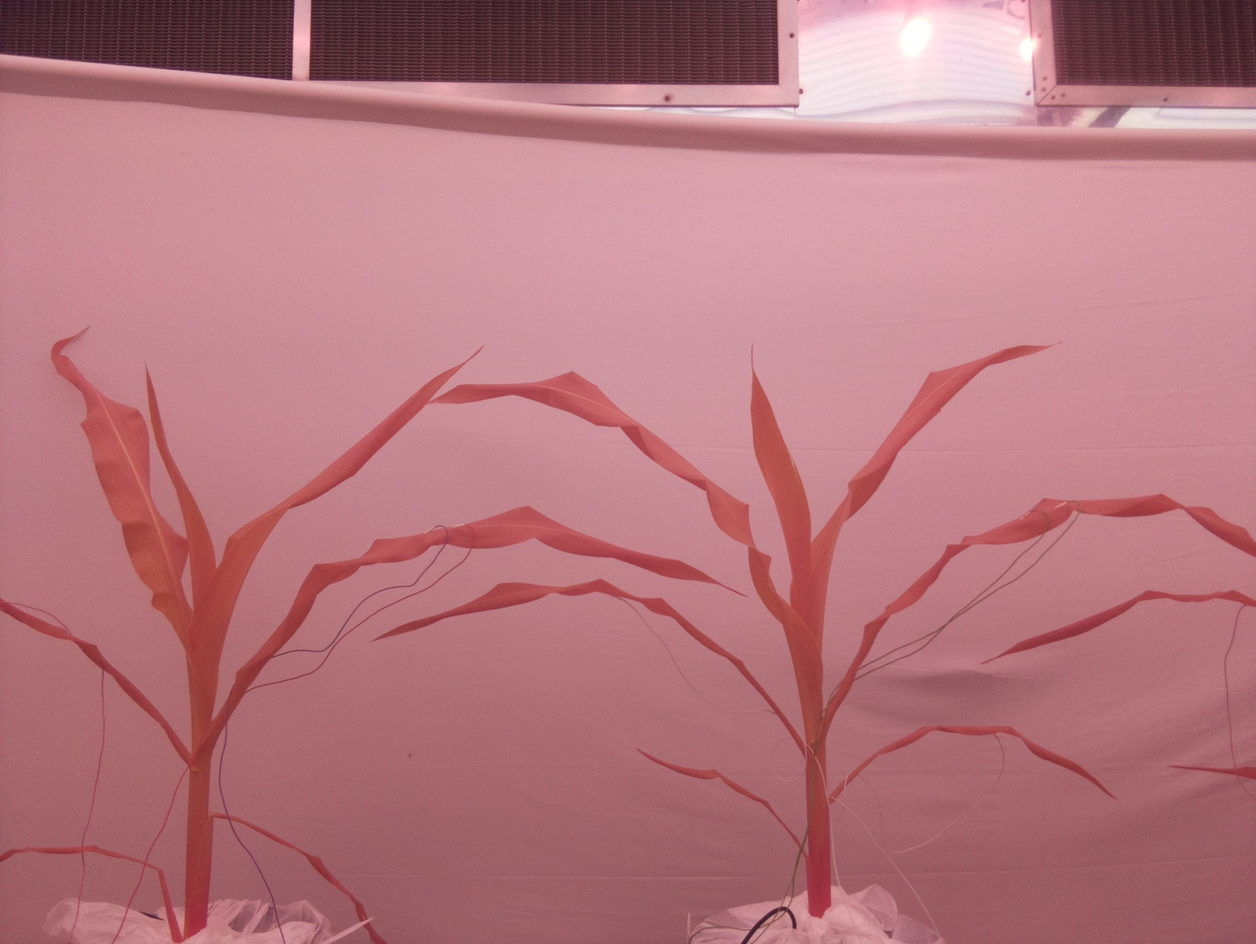maize: (373, 333, 1256, 923), (1, 323, 746, 944)
